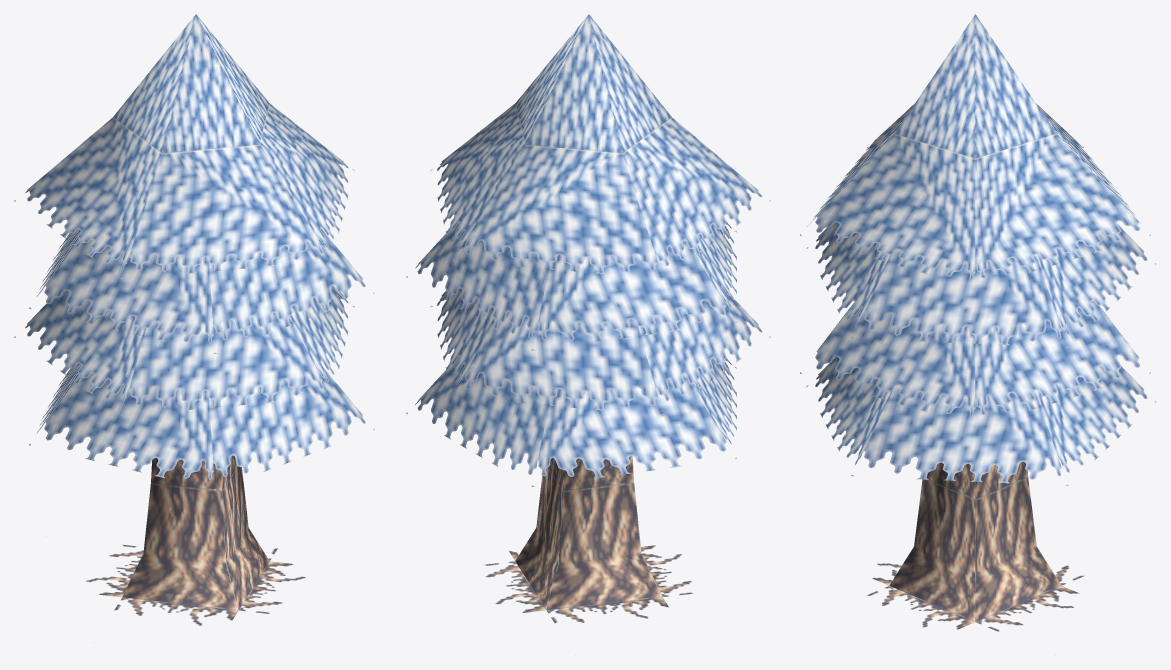
The model's file is pine_Tree_snowy_lowPoly.fbx.
3 renders of one model, left to right at view 1: azimuth 30°, elevation 25°; view 2: azimuth 150°, elevation 25°; view 3: azimuth 270°, elevation 25°, orthographic.
Parts seen in each view (by area): view 1: pine_Tree_snowy_lowPoly; view 2: pine_Tree_snowy_lowPoly; view 3: pine_Tree_snowy_lowPoly.
Part boxes in pixels (x1,y1,x2,y2): pine_Tree_snowy_lowPoly: (14,14,374,642); pine_Tree_snowy_lowPoly: (406,14,770,655); pine_Tree_snowy_lowPoly: (800,14,1155,655).
Size of the model in its own units: 3.39 by 5.8 by 3.28.
